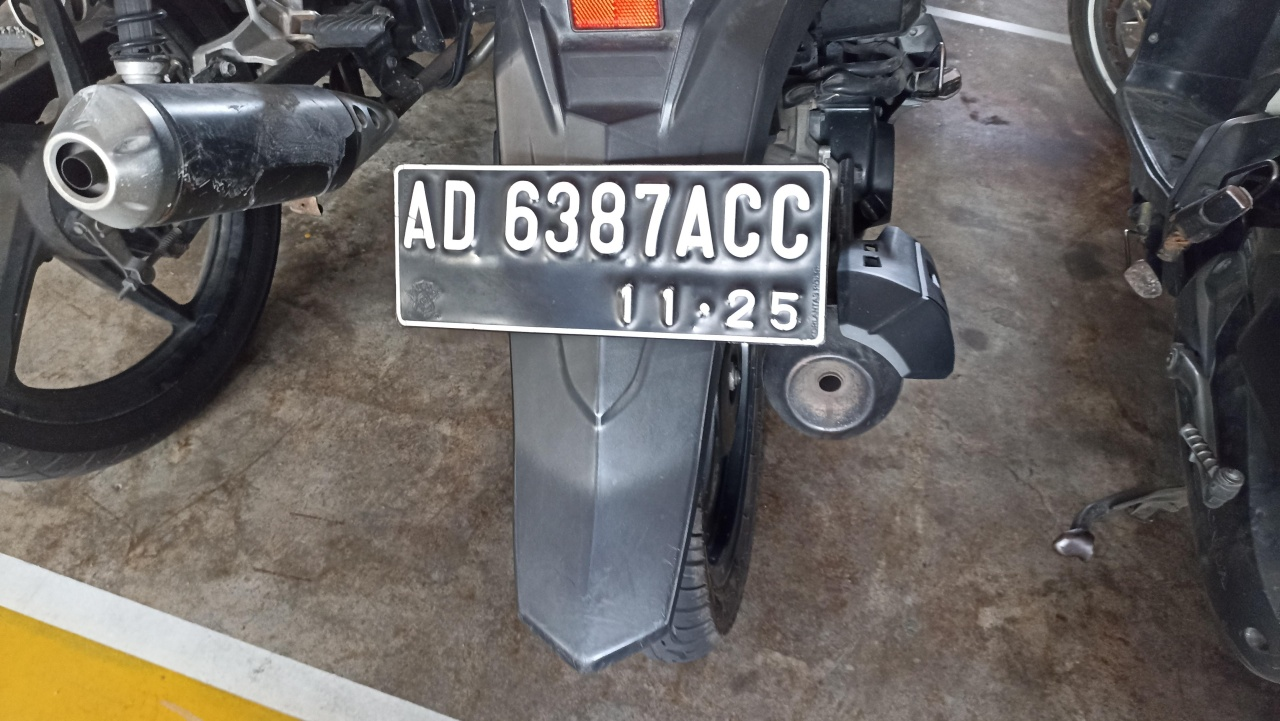plate: (396, 163, 829, 343)
